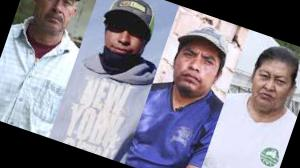mask_weared_incorrect: (98, 19, 149, 69)
without_mask: (167, 43, 224, 103), (246, 65, 293, 120), (34, 1, 79, 37)
